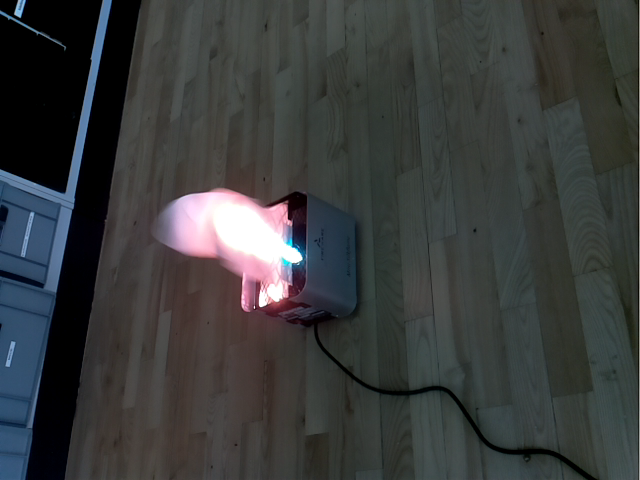fire: (152, 185, 292, 298)
